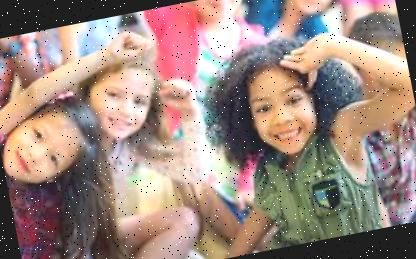person: (184, 10, 416, 258), (63, 20, 209, 259), (0, 53, 130, 259)
